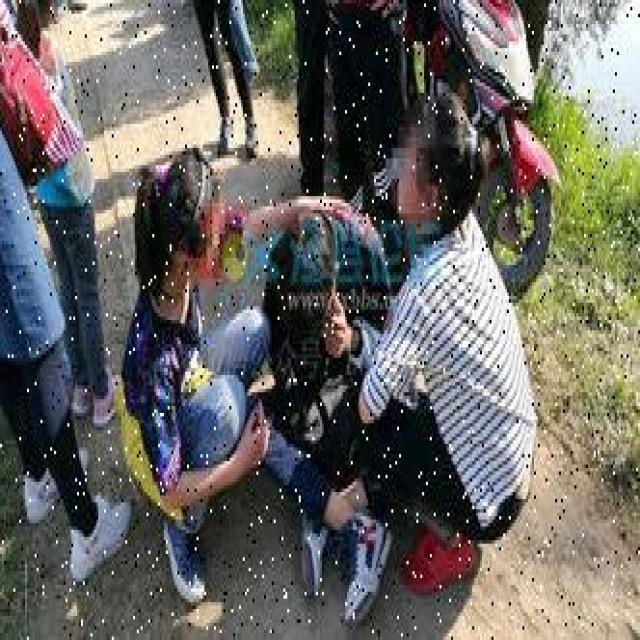fall: (256, 217, 386, 602)
